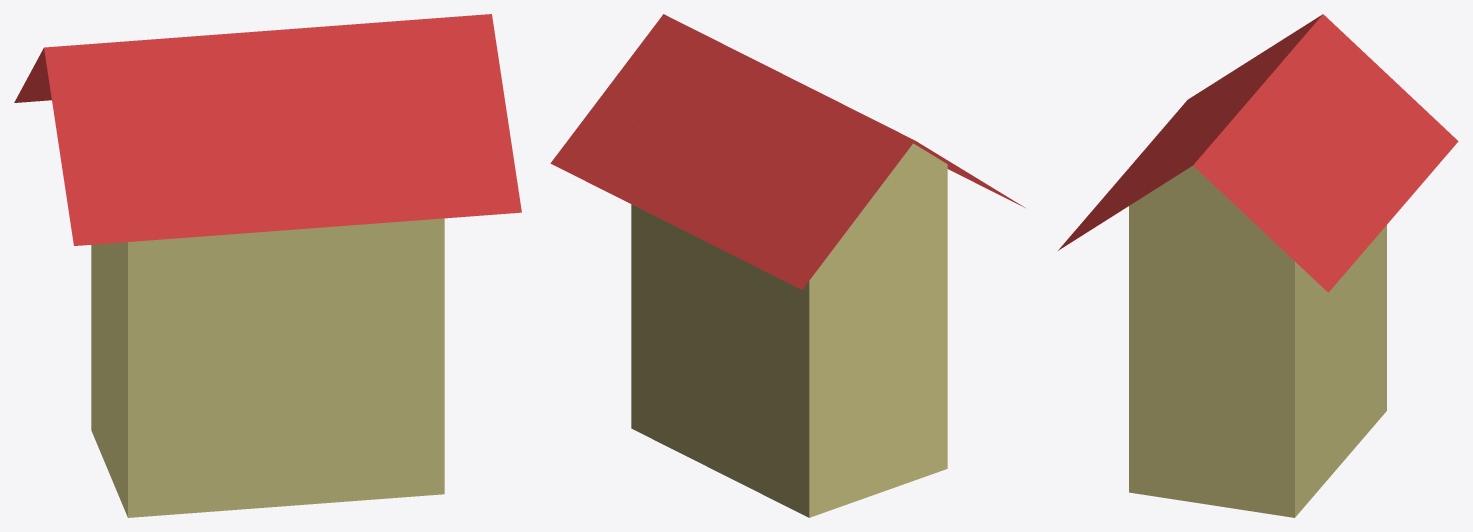
3 renders of one model, left to right at view 1: azimuth 30°, elevation 25°; view 2: azimuth 150°, elevation 25°; view 3: azimuth 270°, elevation 25°, orthographic. The views are drawn at different scales.
Bounding box in the file's own units: 8.17 × 7.17 × 7.14.
